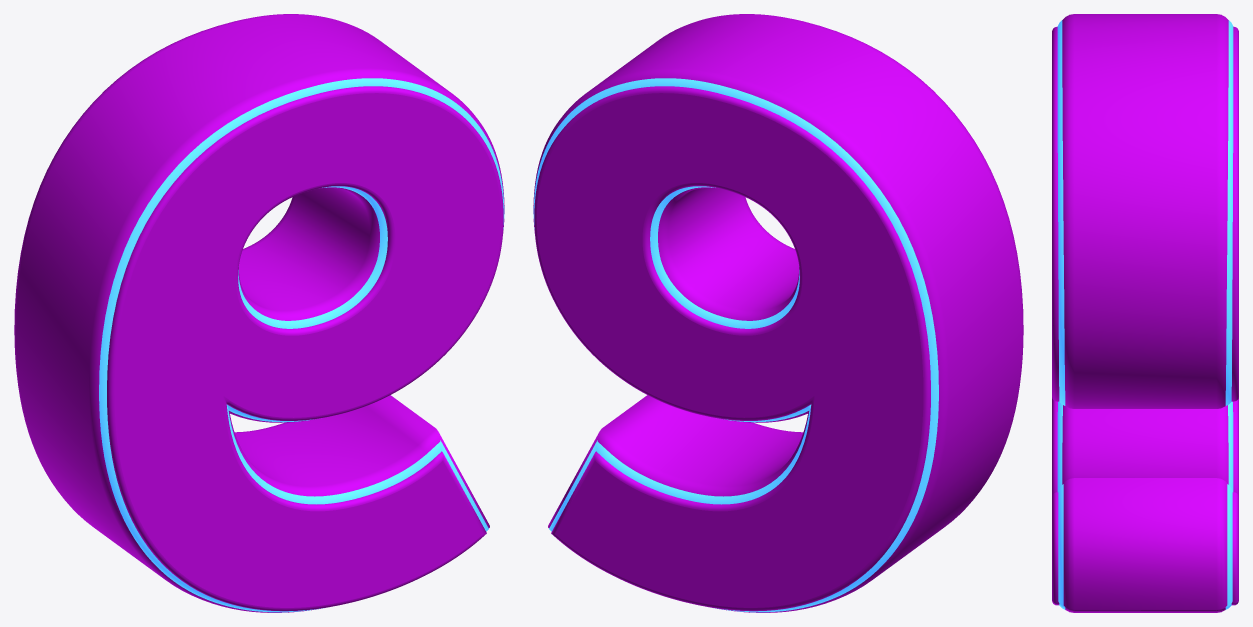
The model's file is nine.fbx.
3 views of the same model, side by side, from view 1: azimuth 30°, elevation 25°; view 2: azimuth 150°, elevation 25°; view 3: azimuth 270°, elevation 25° (orthographic). The views are drawn at different scales.
Visible parts, largest first — view 1: Object_8; view 2: Object_8; view 3: Object_8.
Part boxes in pixels (<box>): Object_8: <box>14,14,504,612</box>; Object_8: <box>533,14,1023,612</box>; Object_8: <box>1052,14,1238,612</box>.
Size of the model in its own units: 2570 by 3177 by 1026.
